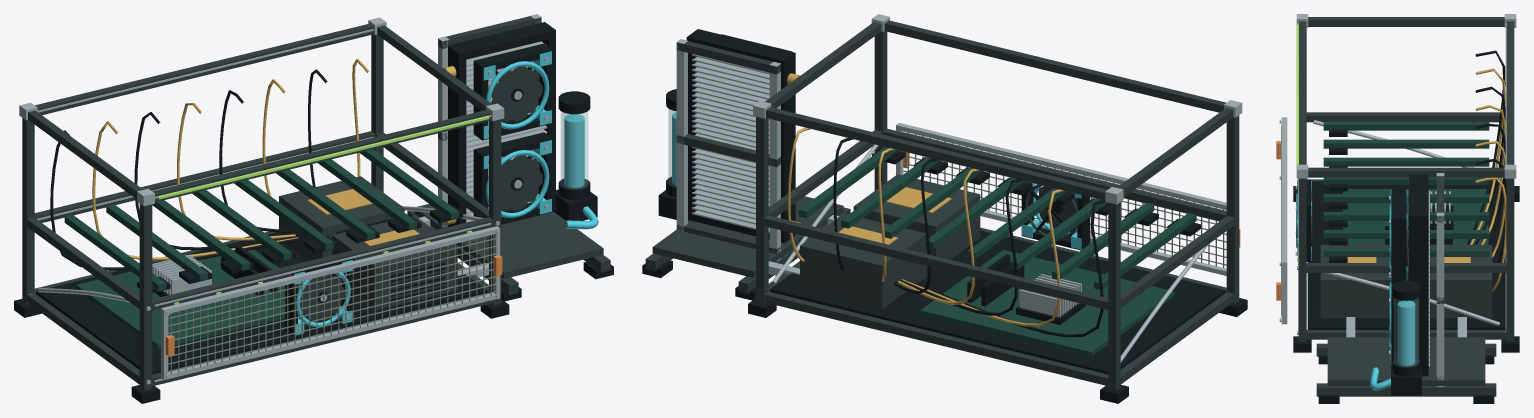
The model's file is rig-runtime-8-mesh-liquid.glb.
3 views of the same model, side by side, from view 1: azimuth 30°, elevation 25°; view 2: azimuth 150°, elevation 25°; view 3: azimuth 270°, elevation 25° (orthographic). The views are drawn at different scales.
Parts seen in each view (by area): view 1: Anodized graphite (×5), Rubber and ABS (×6), Circuit board, Brushed aluminium (×3), Filter fibres, Coolant blue (×4), cooling-liquid, rig-runtime-8-mesh-liquid, Contacts, slot-cable-1, slot-cable-2, slot-cable-3 (+2 smaller); view 2: Anodized graphite (×2), Rubber and ABS (×4), Brushed aluminium (×3), Circuit board, Filter fibres, Contacts, slot-cable-1, slot-cable-2, slot-cable-3, slot-cable-4, cooling-liquid, slot-cable-5 (+1 smaller); view 3: Anodized graphite (×2), Rubber and ABS (×6), Circuit board, Brushed aluminium (×3), Coolant blue (×2), cooling-liquid, slot-cable-1, slot-cable-2, rig-runtime-8-mesh-liquid, slot-cable-3, slot-cable-4, slot-cable-8 (+3 smaller).
Boxes of the visible parts, <box> form: Anodized graphite (×5): <box>22,16,610,390</box>; Rubber and ABS (×6): <box>14,22,613,403</box>; Circuit board: <box>64,149,458,349</box>; Brushed aluminium (×3): <box>19,14,547,384</box>; Filter fibres: <box>168,235,496,374</box>; Coolant blue (×4): <box>294,51,598,335</box>; cooling-liquid: <box>561,111,587,189</box>; rig-runtime-8-mesh-liquid: <box>158,116,489,199</box>; Contacts: <box>307,189,419,246</box>; slot-cable-1: <box>50,130,299,270</box>; slot-cable-2: <box>92,121,298,260</box>; slot-cable-3: <box>134,112,297,250</box>; Anodized graphite (×2): <box>645,20,1239,390</box>; Rubber and ABS (×4): <box>642,29,1247,403</box>; Brushed aluminium (×3): <box>676,14,1242,362</box>; Circuit board: <box>798,147,1196,356</box>; Filter fibres: <box>903,132,1226,267</box>; Contacts: <box>838,187,951,244</box>; slot-cable-1: <box>902,200,1105,337</box>; slot-cable-2: <box>901,189,1063,326</box>; slot-cable-3: <box>900,179,1021,315</box>; slot-cable-4: <box>898,168,979,304</box>; cooling-liquid: <box>668,109,676,186</box>; slot-cable-5: <box>894,158,937,293</box>; Anodized graphite (×2): <box>1298,17,1514,396</box>; Rubber and ABS (×6): <box>1293,130,1519,403</box>; Circuit board: <box>1323,121,1489,262</box>; Brushed aluminium (×3): <box>1281,14,1516,386</box>; Coolant blue (×2): <box>1370,190,1415,390</box>; cooling-liquid: <box>1394,298,1418,366</box>; slot-cable-1: <box>1466,50,1505,244</box>; slot-cable-2: <box>1470,68,1505,244</box>; rig-runtime-8-mesh-liquid: <box>1296,24,1298,168</box>; slot-cable-3: <box>1474,86,1505,244</box>; slot-cable-4: <box>1475,105,1505,244</box>; slot-cable-8: <box>1475,177,1506,291</box>.
Size of the model in its own units: 8.43 by 3.32 by 3.94.
